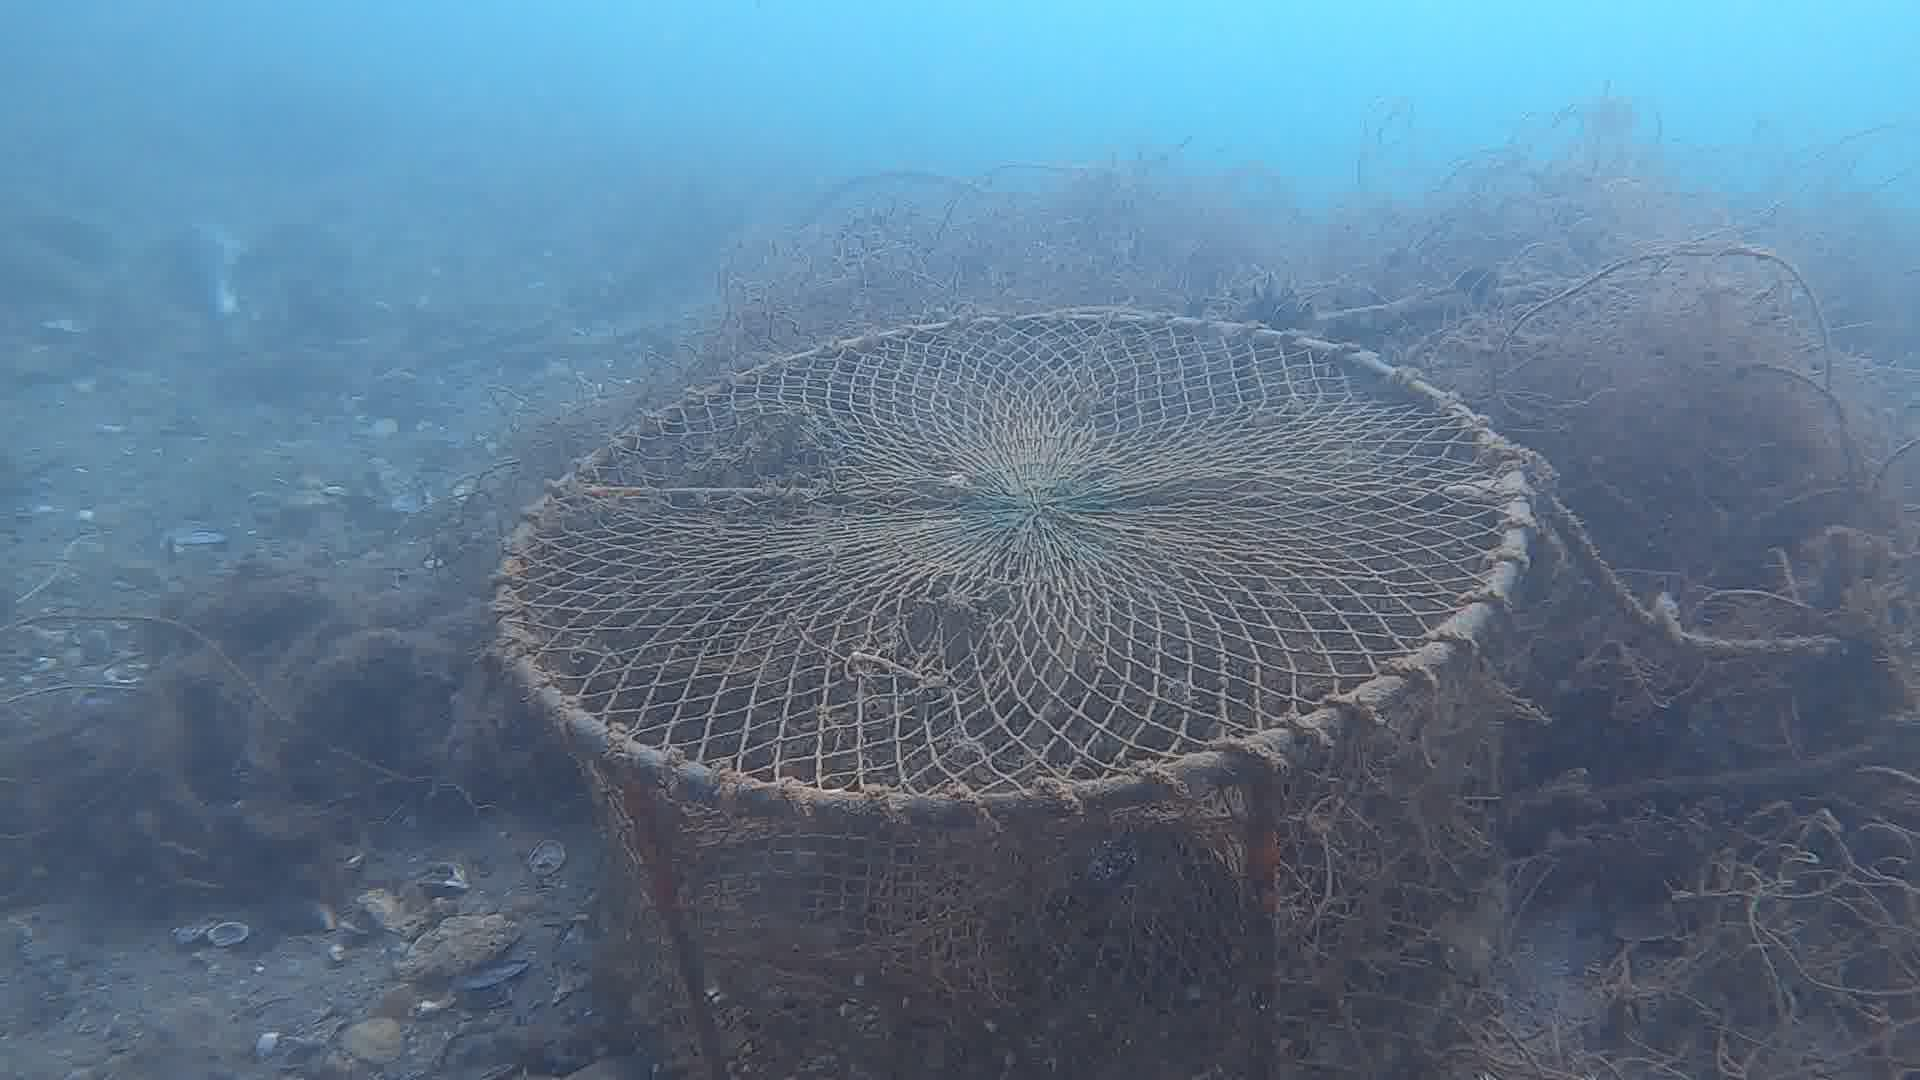circular fish trap: (484, 307, 1540, 1080)
